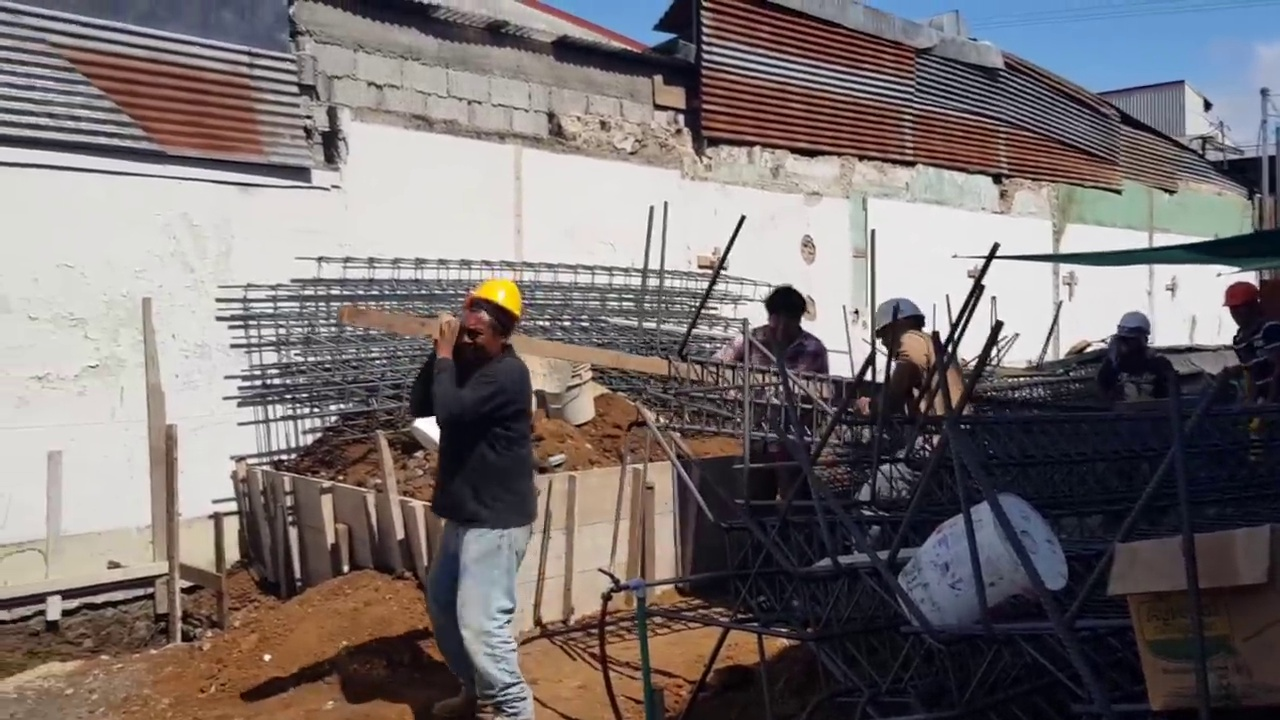helmet: (457, 281, 522, 324), (875, 300, 923, 335), (1221, 282, 1261, 308), (1115, 316, 1151, 337)
helmet-off: (764, 286, 812, 346)
helmet-on: (453, 278, 523, 364), (1221, 276, 1264, 339), (875, 300, 923, 356), (1115, 315, 1153, 354)
person: (403, 262, 548, 718), (723, 286, 836, 495), (871, 306, 971, 433), (1221, 277, 1279, 463), (1100, 317, 1174, 411)
